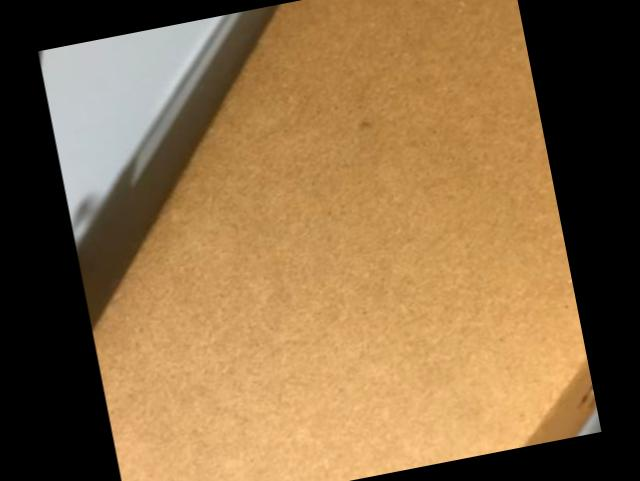cardboard paper: (92, 0, 593, 481)
